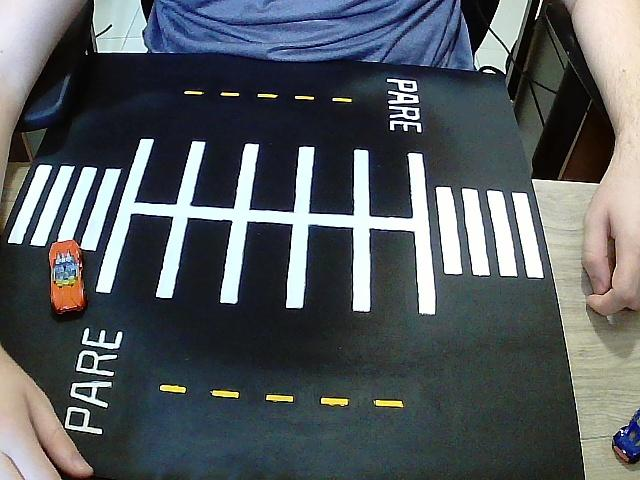Carro: (49, 240, 89, 320), (611, 408, 639, 468)
